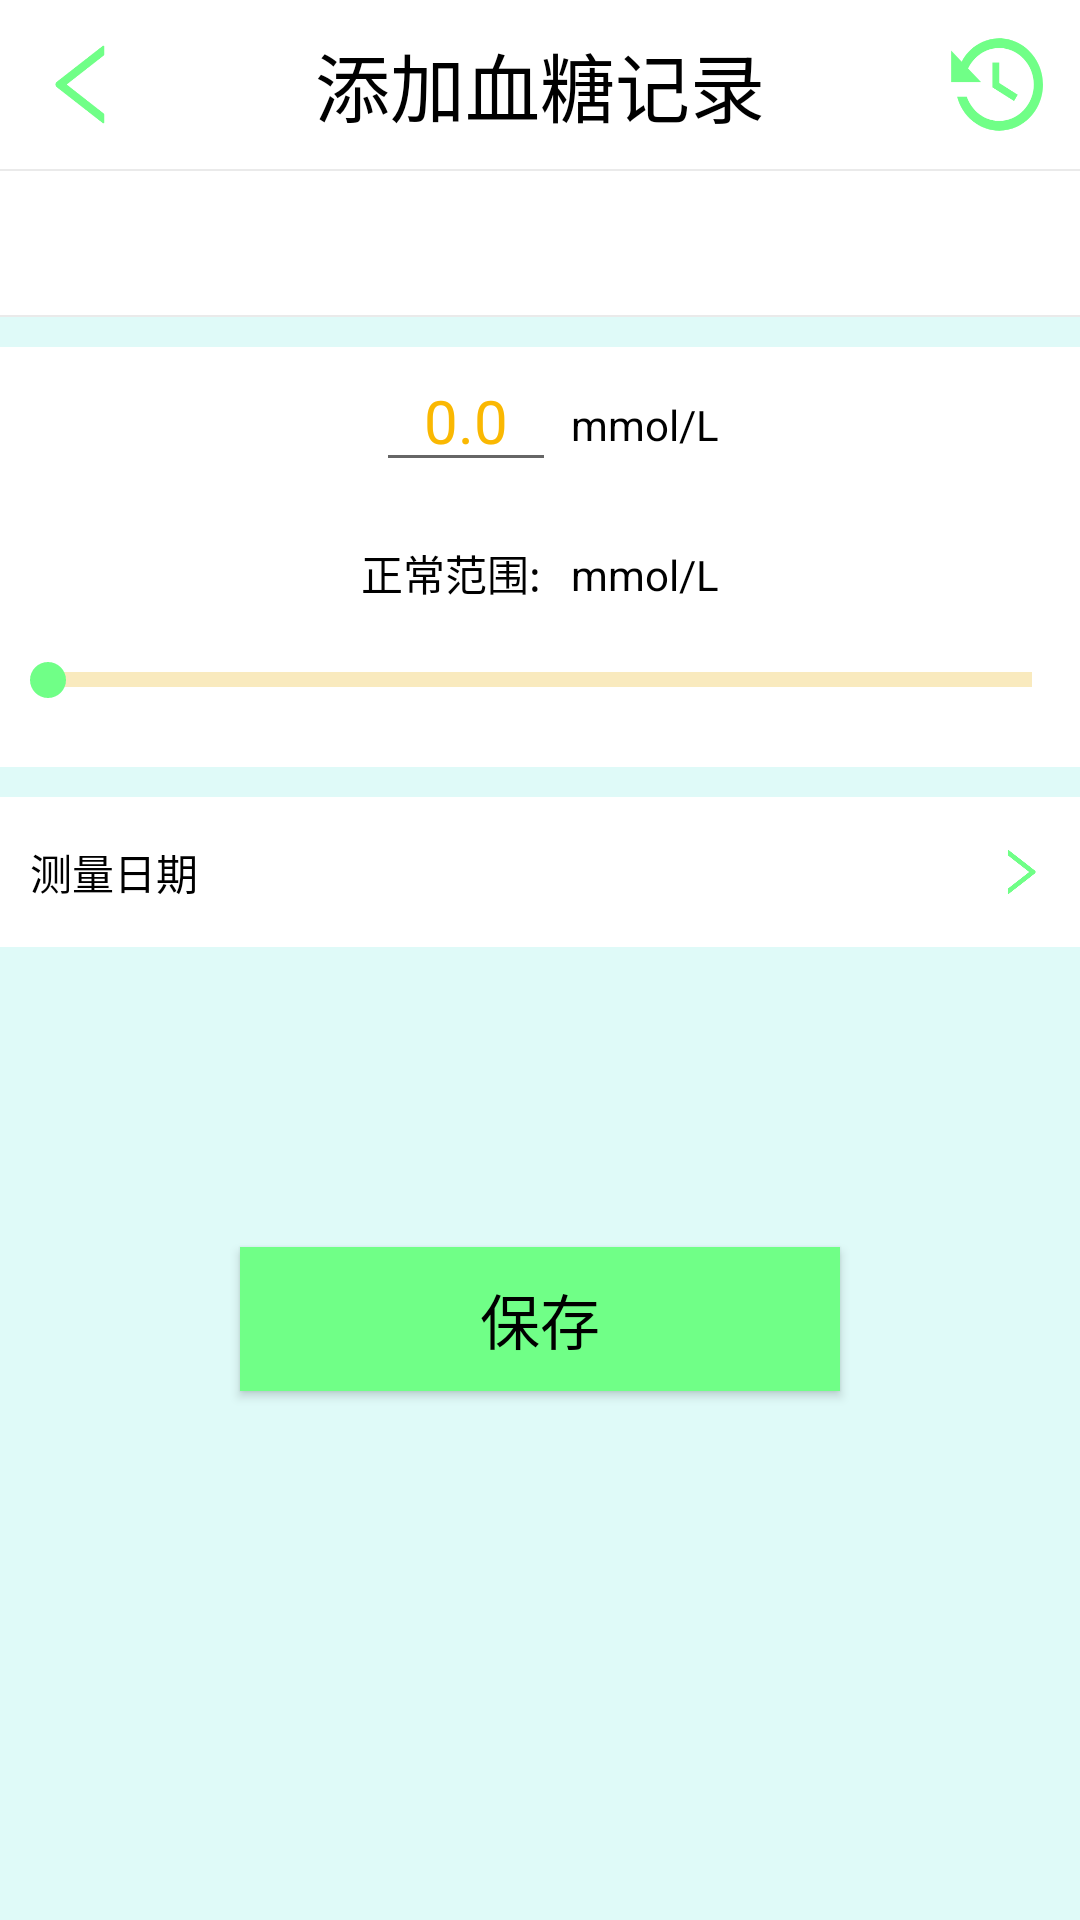

Screen size 1080px×1920px. Icon name, then its box in pixels as (x1, y1, x2, y2):
back left: (55, 45, 105, 124)
history: (951, 38, 1043, 131)
right: (1008, 850, 1036, 894)
